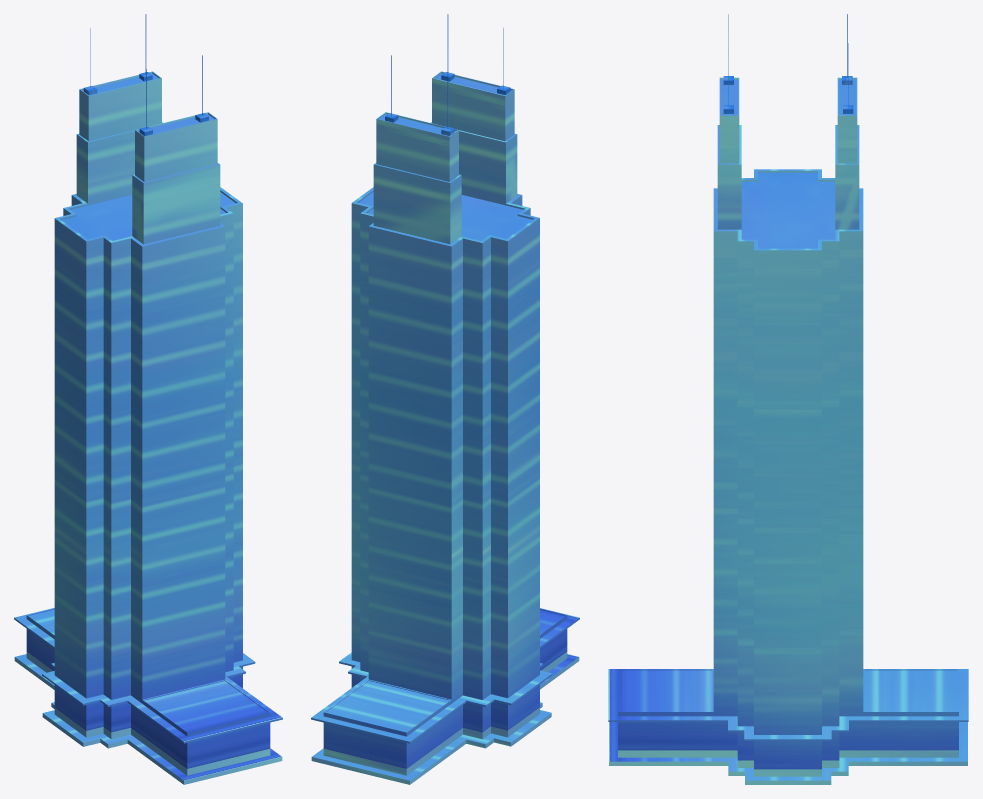
Rendered from building.fbx.
3 views of the same model, side by side, from view 1: azimuth 30°, elevation 25°; view 2: azimuth 150°, elevation 25°; view 3: azimuth 270°, elevation 25° (orthographic). The views are drawn at different scales.
Visible parts, largest first — view 1: 立方体_8; view 2: 立方体_8; view 3: 立方体_8.
Part boxes in pixels (x1,y1,x2,y2): 立方体_8: (14, 14, 282, 784); 立方体_8: (311, 14, 579, 784); 立方体_8: (608, 14, 968, 784).
Bounding box in the file's own units: 28.99 × 108 × 49.5.
Materials: 4 (4 with a texture image).
